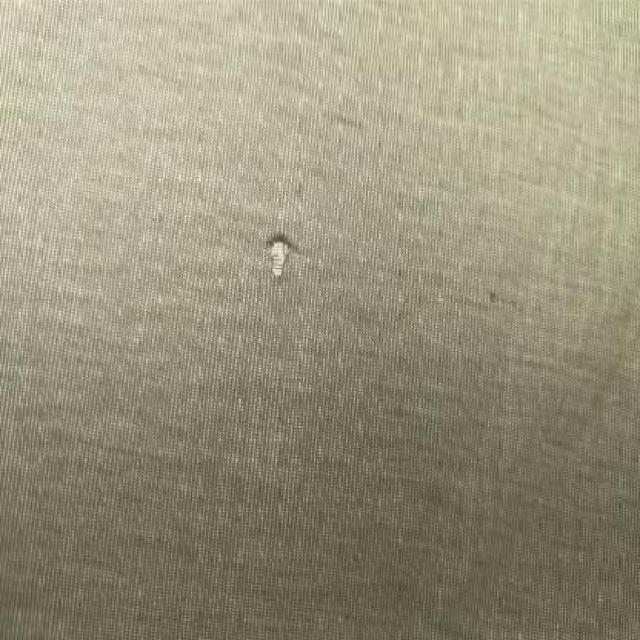other: (238, 211, 326, 319)
